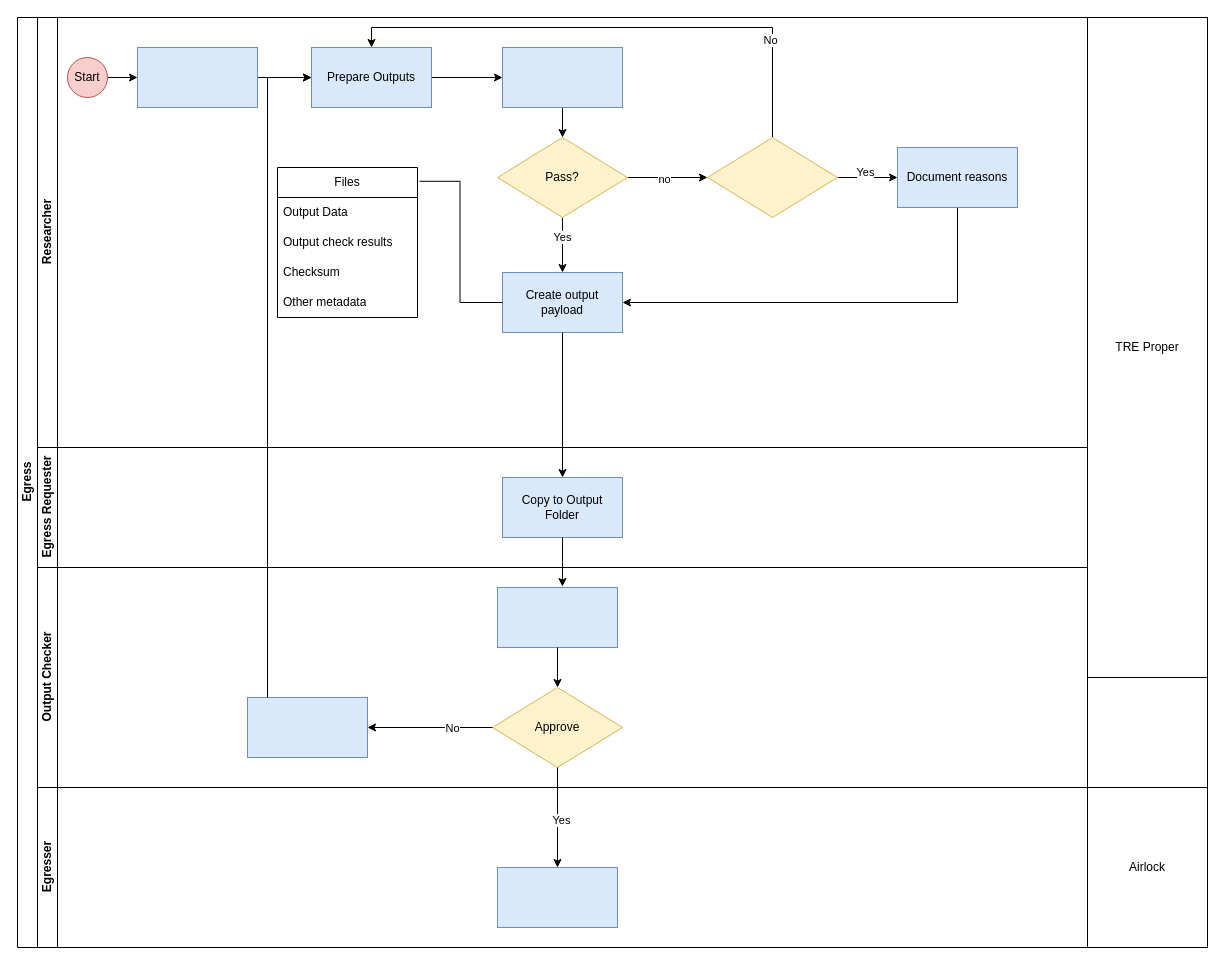
The diagram is 1225 pixels wide and 965 high, and some of its shapes have lost their labels. Each missing label, with the centre of its shape:
"Accept Deviations?" goes at point (772, 177).
"Check output and metadata" goes at point (557, 617).
"Complete Analysis" goes at point (197, 77).
"Egress/Download data" goes at point (557, 897).
"Notify researcher" goes at point (307, 727).
"Run statistical Disclosure checks" goes at point (562, 77).
"Web UI" goes at point (1147, 732).
